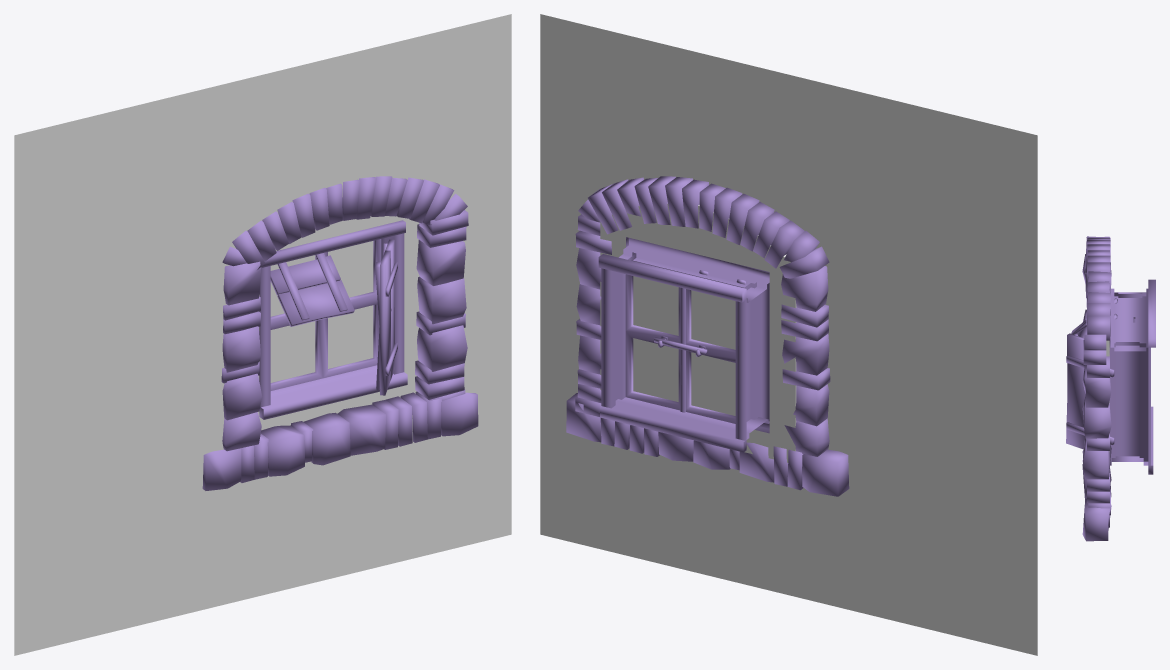
File: window_c_outside_variant_b.fbx
3 renders of one model, left to right at view 1: azimuth 30°, elevation 25°; view 2: azimuth 150°, elevation 25°; view 3: azimuth 270°, elevation 25°, orthographic. The views are drawn at different scales.
Visible parts, largest first — view 1: Plane.028, Plane.026, Plane.074, Plane.029, Plane.032; view 2: Plane.028, Plane.026, Plane.074; view 3: Plane.026, Plane.032, Plane.029.
Part boxes in pixels (x1=…): Plane.028: x1=14, y1=14, x2=511, y2=655; Plane.026: x1=202, y1=176, x2=478, y2=490; Plane.074: x1=270, y1=241, x2=373, y2=382; Plane.029: x1=270, y1=253, x2=354, y2=326; Plane.032: x1=375, y1=239, x2=397, y2=395; Plane.028: x1=540, y1=14, x2=1037, y2=655; Plane.026: x1=566, y1=176, x2=849, y2=496; Plane.074: x1=633, y1=276, x2=735, y2=415; Plane.026: x1=1082, y1=236, x2=1155, y2=541; Plane.032: x1=1066, y1=333, x2=1114, y2=449; Plane.029: x1=1071, y1=298, x2=1117, y2=337.
Size of the model in its own units: 5 by 5 by 0.9307.
